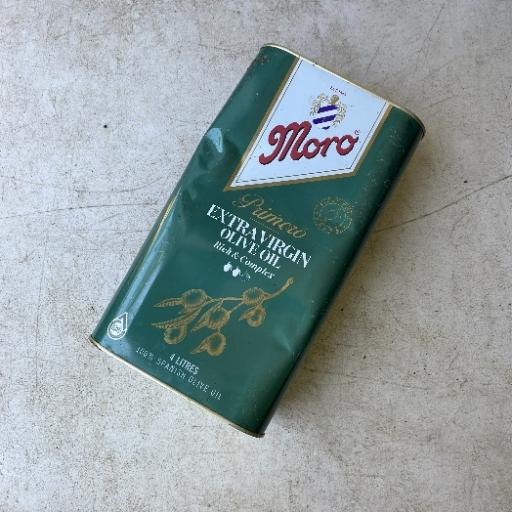Metal: (86, 42, 427, 438)
